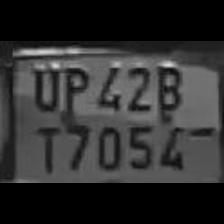0: (91, 117, 123, 171)
2: (119, 59, 153, 113)
4: (89, 59, 125, 113), (156, 123, 188, 173)
5: (123, 115, 155, 171)
7: (58, 113, 90, 172)
B: (152, 61, 182, 111)
P: (58, 61, 90, 120)
T: (29, 119, 61, 175)
U: (25, 61, 59, 113)
